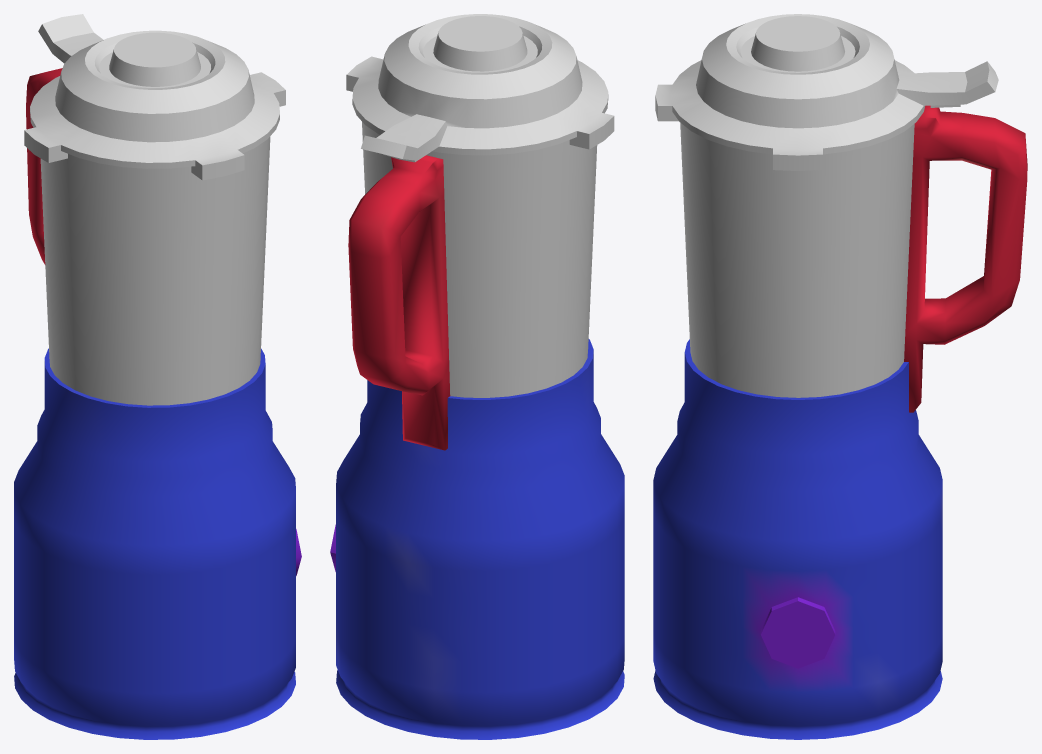
The model's file is blender.fbx.
The picture shows the model from 3 angles, left to right: view 1: azimuth 30°, elevation 25°; view 2: azimuth 150°, elevation 25°; view 3: azimuth 270°, elevation 25°; orthographic projection. The views are drawn at different scales.
Visible parts, largest first — view 1: 底盤, 瓶身, 蓋子, 把手; view 2: 底盤, 瓶身, 蓋子, 把手; view 3: 底盤, 瓶身, 蓋子, 把手.
Boxes of the visible parts, box(x1,y1,x2,y2) form: 底盤: box(14, 348, 301, 739); 瓶身: box(40, 136, 270, 405); 蓋子: box(24, 14, 285, 180); 把手: box(26, 68, 62, 264); 底盤: box(330, 339, 624, 739); 瓶身: box(362, 122, 597, 397); 蓋子: box(346, 14, 614, 162); 把手: box(348, 155, 450, 450); 底盤: box(653, 339, 942, 739); 瓶身: box(680, 123, 914, 397); 蓋子: box(655, 14, 998, 170); 把手: box(904, 105, 1027, 412).
Bounding box in the file's own units: 14.35 × 34.45 × 18.11.
